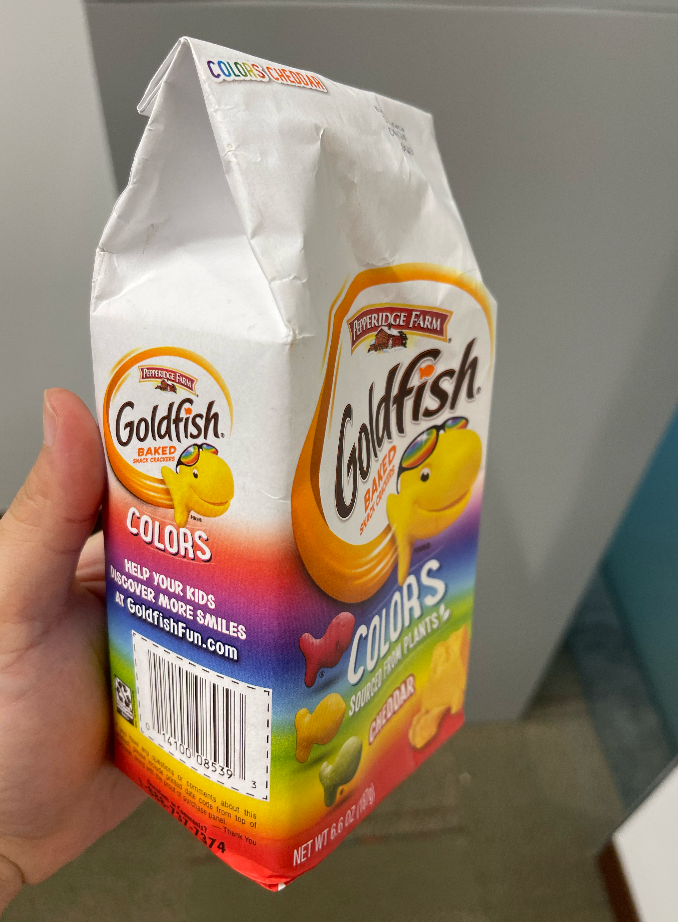crackers_100g-199g: (119, 227, 466, 808)
